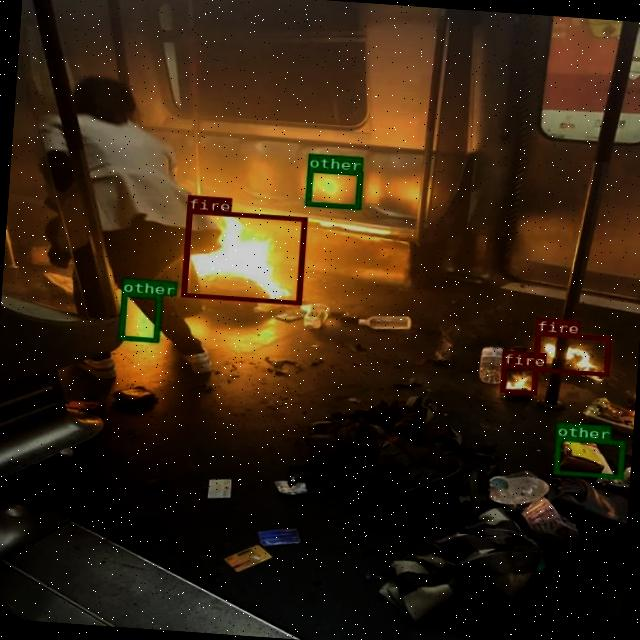fire: (180, 208, 306, 304), (532, 330, 611, 376), (498, 363, 537, 394)
